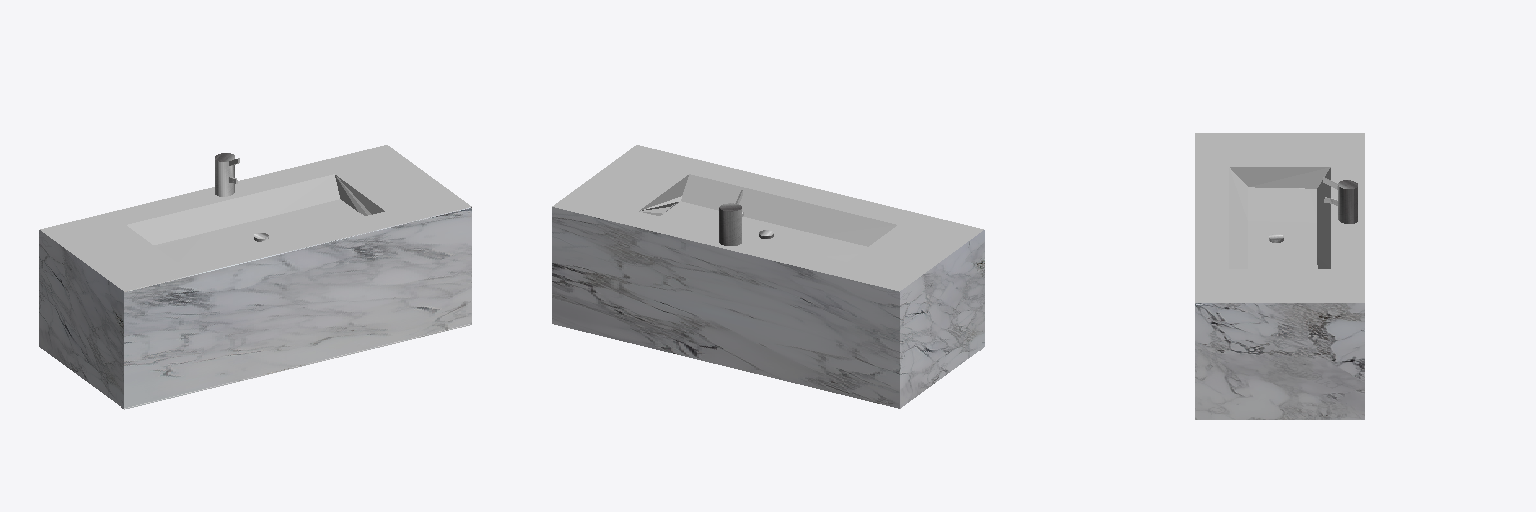
3 renders of one model, left to right at view 1: azimuth 30°, elevation 25°; view 2: azimuth 150°, elevation 25°; view 3: azimuth 270°, elevation 25°, orthographic.
Visible parts, largest first — view 1: Cubo; view 2: Cubo; view 3: Cubo.
Part boxes in pixels (left/top/right/bottom): Cubo: left=39, top=145, right=471, bottom=409; Cubo: left=552, top=145, right=984, bottom=408; Cubo: left=1195, top=133, right=1364, bottom=419.
Size of the model in its own units: 6.9 by 3.06 by 2.91.
Materials: 3 (2 with a texture image).